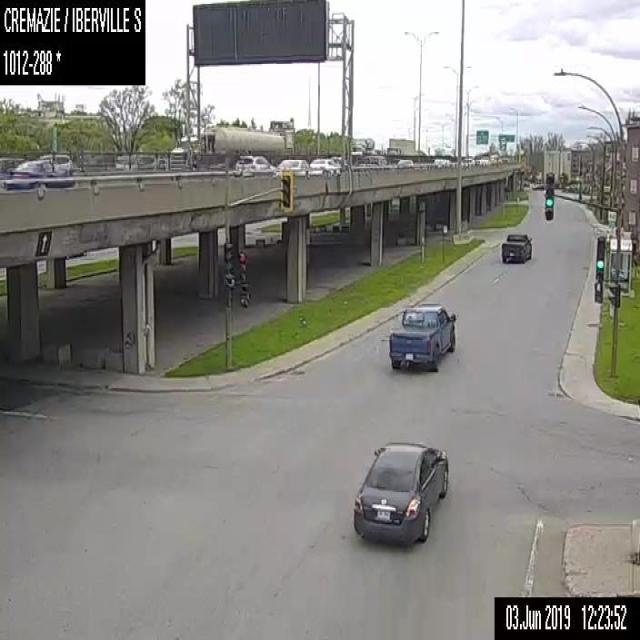vehicle: (353, 438, 448, 546), (171, 125, 284, 169), (388, 300, 457, 371), (6, 152, 75, 189), (500, 229, 532, 263), (234, 153, 276, 176), (386, 136, 415, 162), (116, 151, 155, 169), (276, 157, 312, 175), (37, 153, 73, 170), (310, 158, 341, 174), (352, 137, 374, 159), (355, 155, 391, 168), (396, 157, 414, 167), (462, 156, 475, 167), (474, 156, 487, 166), (434, 156, 446, 166), (442, 158, 451, 166)
